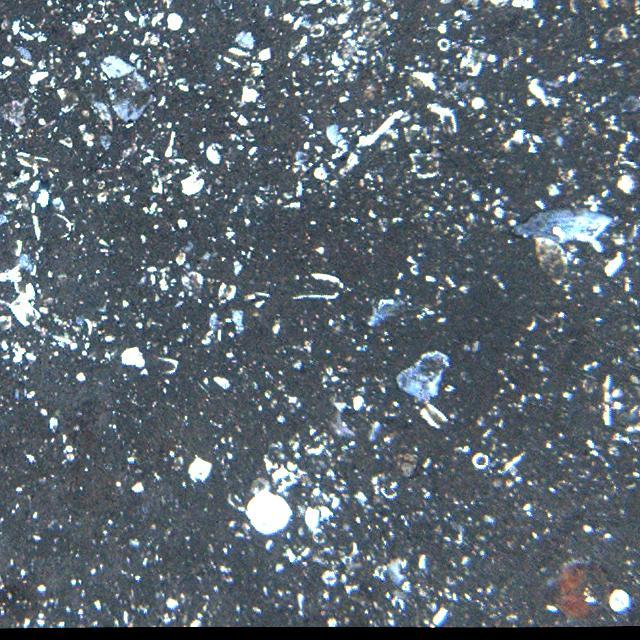scallop: (552, 556, 614, 618)
